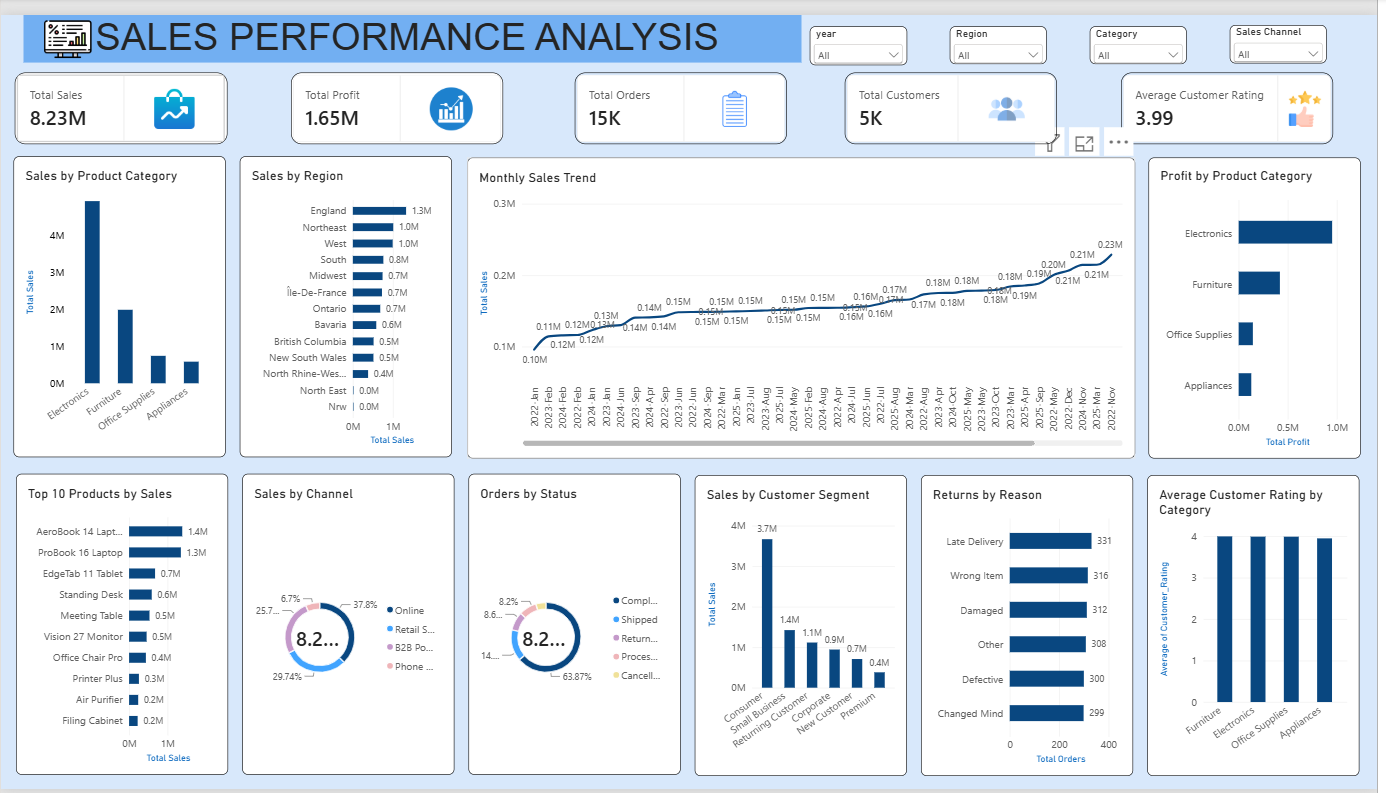

This screenshot's page, from the dashboard's own definition file:
{"tool":"powerbi","page":{"name":"Sales Overview","canvas":[1920,1080],"ordinal":0},"visuals":[{"type":"cardVisual","title":"Total Sales","fields":{"Data":["Sales_transactions_2022_2025.Total Sales"]},"box":[19.9,79.6,296.8,100],"z":0},{"type":"cardVisual","fields":{"Data":["Sales_transactions_2022_2025.Total Profit"]},"box":[405,79.6,296,100],"z":1000},{"type":"cardVisual","fields":{"Data":["Sales_transactions_2022_2025.Average Customer Rating"]},"box":[1563,79.6,296,100],"z":3000},{"type":"clusteredColumnChart","title":"Sales by Product Category","fields":{"Category":["Sales_transactions_2022_2025.Product_Category"],"Y":["Sales_transactions_2022_2025.Total Sales"]},"box":[18.1,197.4,296.4,420],"z":4000},{"type":"clusteredBarChart","title":"Sales by Region","fields":{"Category":["Sales_transactions_2022_2025.Region"],"Y":["Sales_transactions_2022_2025.Total Sales"]},"box":[334,197.3,296,420],"z":5000},{"type":"lineChart","title":"Monthly Sales Trend","fields":{"Category":["Date_Table.Year Month"],"Y":["Sales_transactions_2022_2025.Total Sales"]},"box":[650,199.1,932,419.8],"z":6000},{"type":"clusteredBarChart","title":"Profit by Product Category","fields":{"Category":["Sales_transactions_2022_2025.Product_Category"],"Y":["Sales_transactions_2022_2025.Total Profit"]},"box":[1601,199.1,296,420],"z":7000},{"type":"clusteredBarChart","title":"Top 10 Products by Sales","fields":{"Category":["Sales_transactions_2022_2025.Product_Name"],"Y":["Sales_transactions_2022_2025.Total Sales"]},"box":[20.6,640.1,296,420],"z":8000},{"type":"donutChart","title":"Sales by Channel","fields":{"Category":["Sales_transactions_2022_2025.Sales_Channel"],"Y":["Sales_transactions_2022_2025.Total Sales"]},"box":[336,640.1,296,420],"z":9000},{"type":"donutChart","title":"Orders by Status","fields":{"Category":["Sales_transactions_2022_2025.Order_Status"],"Y":["Sales_transactions_2022_2025.Total Sales"]},"box":[652,640.1,296,420],"z":10000},{"type":"clusteredColumnChart","title":"Sales by Customer Segment","fields":{"Category":["Sales_transactions_2022_2025.Customer_Segment"],"Y":["Sales_transactions_2022_2025.Total Sales"]},"box":[968,642.2,296,420],"z":11000},{"type":"clusteredBarChart","title":"Returns by Reason","fields":{"Category":["Sales_transactions_2022_2025.Return_Reason"],"Y":["Sales_transactions_2022_2025.Total Orders"]},"box":[1284,642.2,296,420],"z":12000},{"type":"clusteredColumnChart","title":"Average Customer Rating by Category","fields":{"Category":["Sales_transactions_2022_2025.Product_Category"],"Y":["Avg(Sales_transactions_2022_2025.Customer_Rating)"]},"box":[1600,642.2,296,420],"z":13000},{"type":"slicer","fields":{"Values":["Date_Table.year"]},"box":[1129.2,16.3,135.7,54.3],"z":14000},{"type":"slicer","fields":{"Values":["Sales_transactions_2022_2025.Region"]},"box":[1324,16.3,135,52.5],"z":15000},{"type":"slicer","fields":{"Values":["Sales_transactions_2022_2025.Product_Category"]},"box":[1519,16.3,135,52.5],"z":16000},{"type":"slicer","fields":{"Values":["Sales_transactions_2022_2025.Sales_Channel"]},"box":[1714,14.5,135,53.5],"z":17000},{"type":"textbox","box":[1725,834,171,246],"z":18000},{"type":"textbox","box":[31.7,0,1085.3,66.8],"z":19000},{"type":"image","box":[48.9,0,88.7,67],"z":20000},{"type":"cardVisual","fields":{"Data":["Sales_transactions_2022_2025.Total Orders"]},"box":[800.6,80.2,296,100],"z":21000},{"type":"cardVisual","fields":{"Data":["Sales_transactions_2022_2025.Total Customers"]},"box":[1177,79.6,296,100],"z":21001}]}

Visuals, with their boxes in screenshot pixels (x1, y1, x2, y2), scaled from the page's 1920x1080 canvas onto the 1386x793 screenshot:
"Total Sales" cardVisual: locate(14, 58, 229, 132)
cardVisual - Sales_transactions_2022_2025.Total Profit: locate(292, 58, 506, 132)
cardVisual - Sales_transactions_2022_2025.Average Customer Rating: locate(1128, 58, 1342, 132)
"Sales by Product Category" clusteredColumnChart: locate(13, 145, 227, 453)
"Sales by Region" clusteredBarChart: locate(241, 145, 455, 453)
"Monthly Sales Trend" lineChart: locate(469, 146, 1142, 454)
"Profit by Product Category" clusteredBarChart: locate(1156, 146, 1369, 455)
"Top 10 Products by Sales" clusteredBarChart: locate(15, 470, 229, 778)
"Sales by Channel" donutChart: locate(243, 470, 456, 778)
"Orders by Status" donutChart: locate(471, 470, 684, 778)
"Sales by Customer Segment" clusteredColumnChart: locate(699, 472, 912, 780)
"Returns by Reason" clusteredBarChart: locate(927, 472, 1141, 780)
"Average Customer Rating by Category" clusteredColumnChart: locate(1155, 472, 1369, 780)
slicer - Date_Table.year: locate(815, 12, 913, 52)
slicer - Sales_transactions_2022_2025.Region: locate(956, 12, 1053, 51)
slicer - Sales_transactions_2022_2025.Product_Category: locate(1097, 12, 1194, 51)
slicer - Sales_transactions_2022_2025.Sales_Channel: locate(1237, 11, 1335, 50)
textbox: locate(1245, 612, 1369, 792)
textbox: locate(23, 0, 806, 49)
image: locate(35, 0, 99, 49)
cardVisual - Sales_transactions_2022_2025.Total Orders: locate(578, 59, 792, 132)
cardVisual - Sales_transactions_2022_2025.Total Customers: locate(850, 58, 1063, 132)
